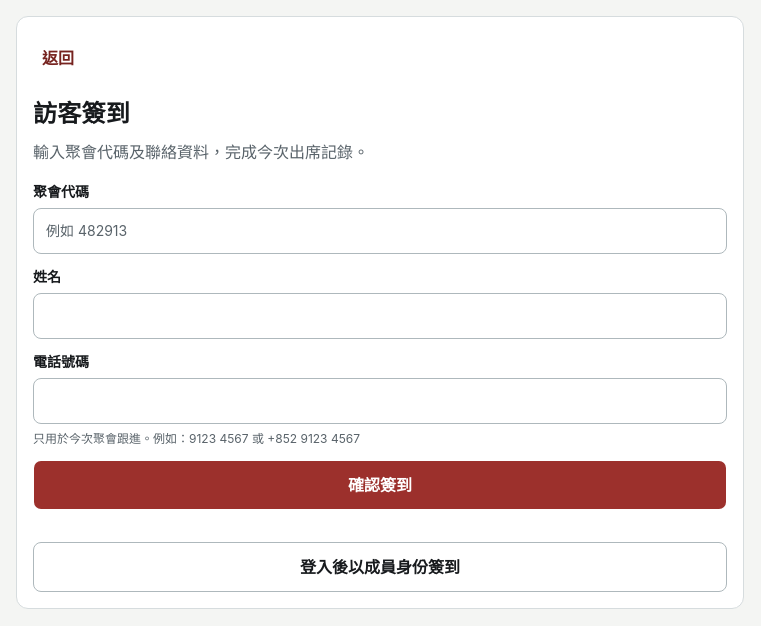
it: AttendancePanel › AttendancePanel guest flow › guest cancelled-event resolve shows the cancellation outcome
This screenshot has width=761, height=626.
Step 1. Type "ATTCANCEL" into the field labelled "聚會代碼" → (380, 231), box [33,208,727,254]
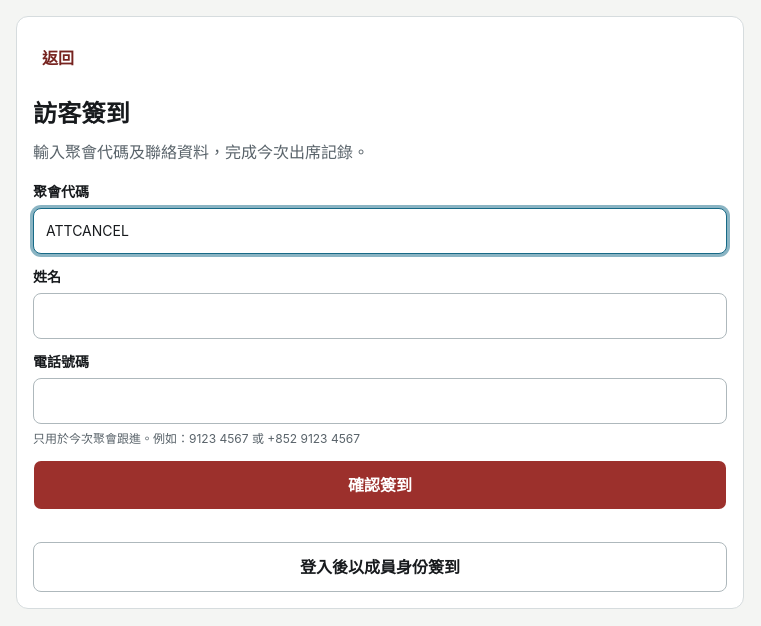
Step 2. Type "E2E訪客" into the field labelled "姓名" → (380, 316), box [33,293,727,339]
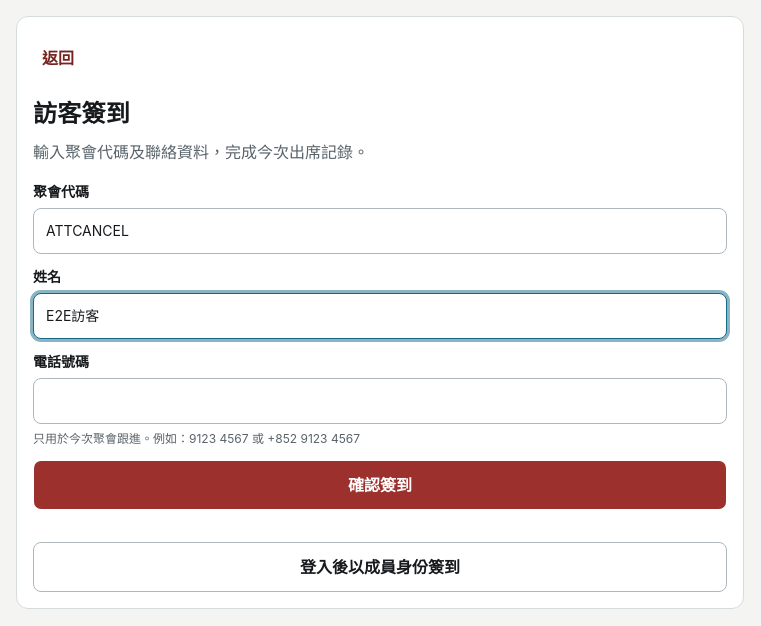
Step 3. Type "91234567" into the field labelled "電話號碼 只用於今次聚會跟進。例如：9123 4567 或 +852 9123 4567" → (380, 401), box [33,378,727,424]
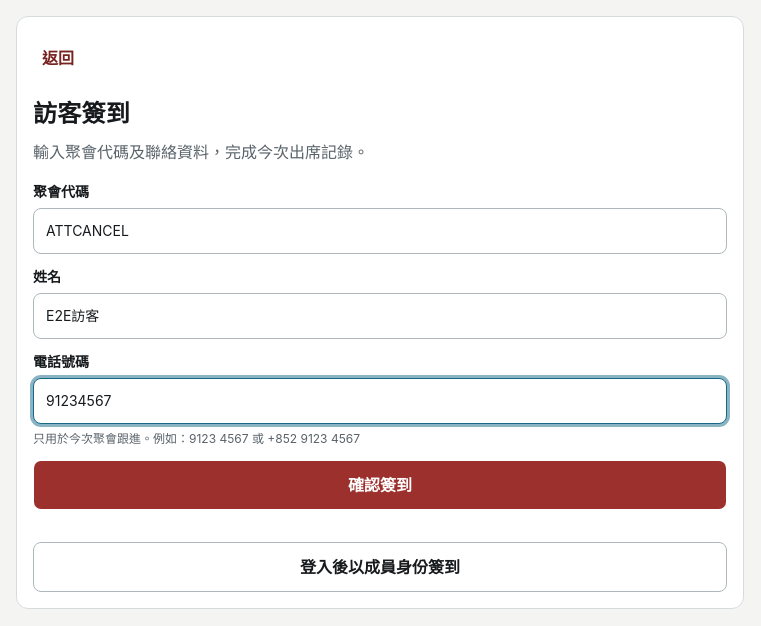
Step 4. Click the button "確認簽到" → (380, 485), box [33,460,727,510]
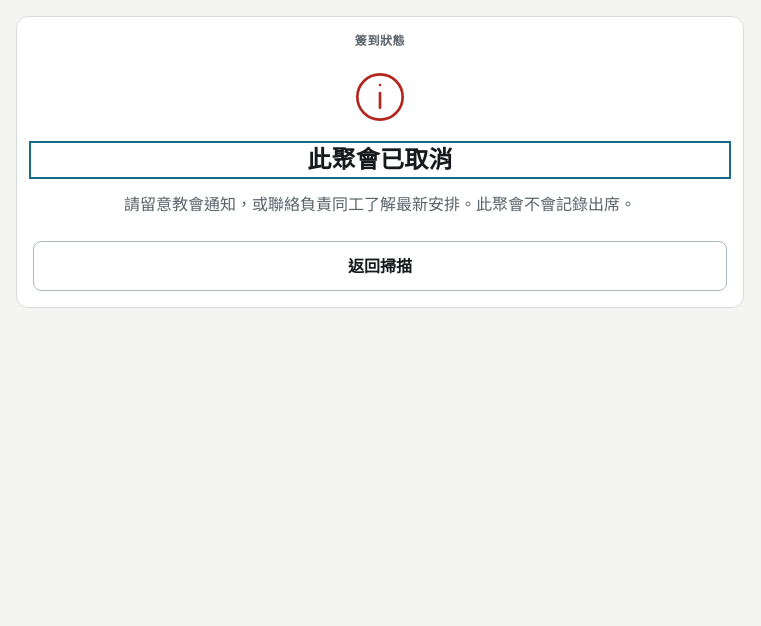
Result: the heading "此聚會已取消" is shown at [307,145,453,174]
Result: the text "請留意教會通知，或聯絡負責同工了解最新安排。此聚會不會記錄出席。" is shown at [124,194,636,214]
Result: the text labelled "聚會代碼" is gone
